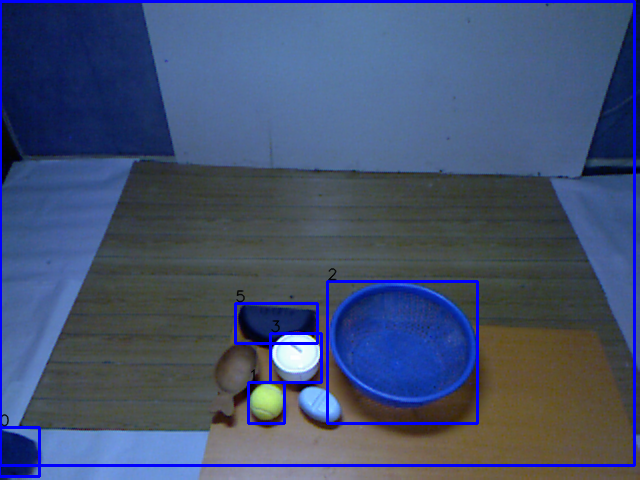azucareero: (268, 328, 325, 391)
colador: (322, 276, 484, 417)
estuche: (235, 301, 324, 353)
jabon: (295, 384, 347, 431)
pelota: (247, 378, 287, 425)
pescado: (201, 338, 265, 419)
